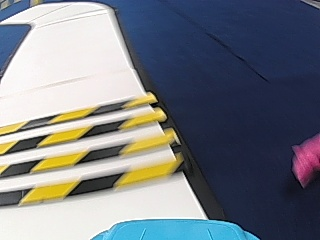bump: (4, 101, 152, 191)
